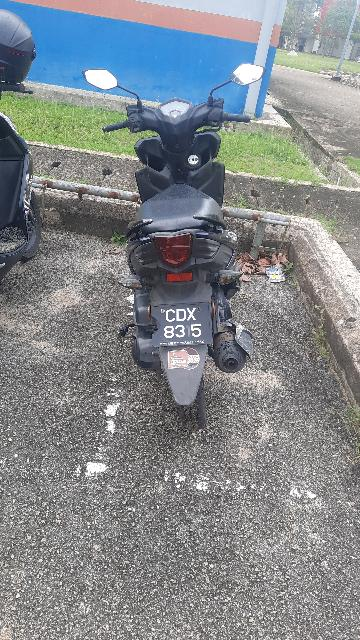License_Plate: (148, 293, 236, 369)
motorcycle: (76, 58, 274, 445)
